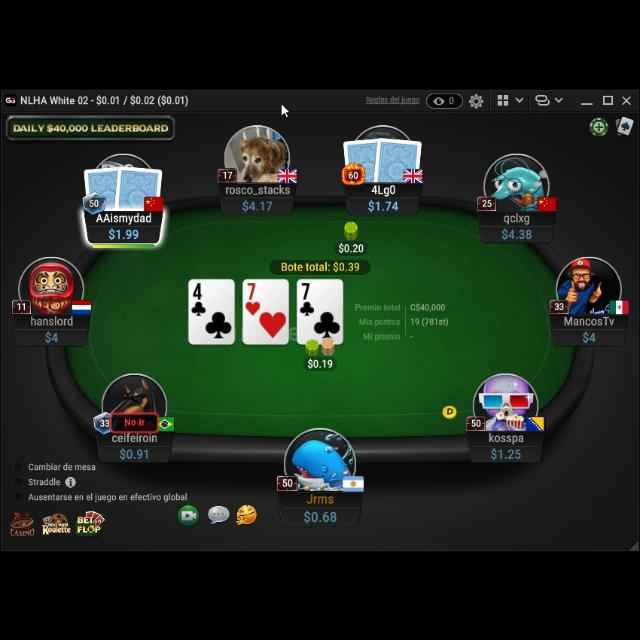4c: (190, 281, 206, 317)
7c: (299, 282, 315, 316)
7h: (245, 281, 261, 315)
bet_text: (306, 354, 336, 368), (338, 240, 364, 252)
card_back: (373, 134, 423, 184), (114, 163, 164, 213), (82, 162, 126, 212), (342, 136, 384, 182)
dealer: (441, 403, 459, 419)
pot_text: (280, 259, 362, 271)
stack_text: (301, 506, 339, 524), (240, 196, 276, 212), (106, 224, 140, 240), (366, 197, 399, 211), (501, 224, 534, 238), (490, 444, 522, 458), (118, 446, 150, 458), (580, 327, 598, 341), (44, 328, 60, 342)
